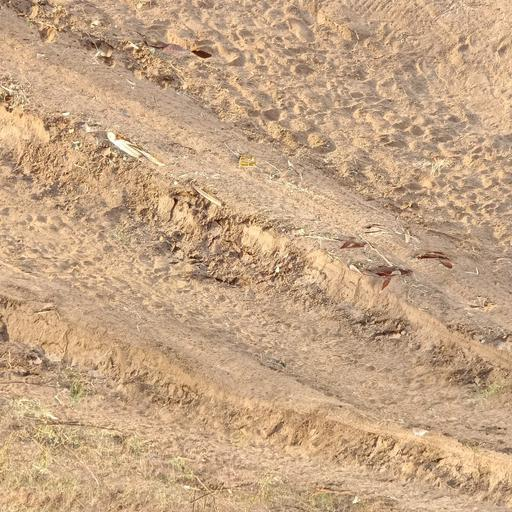vehicle_track: (0, 5, 512, 348), (0, 160, 512, 449)
